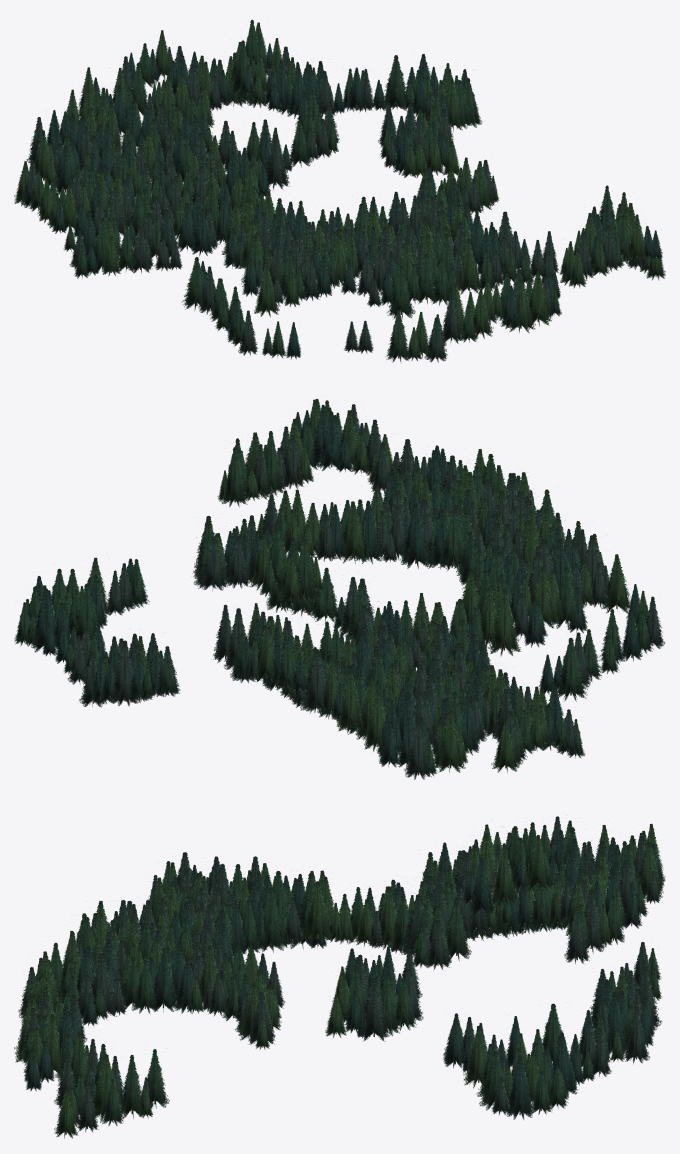
File: pines_0_0.glb
3 views of the same model, one above another, from view 1: azimuth 30°, elevation 25°; view 2: azimuth 150°, elevation 25°; view 3: azimuth 270°, elevation 25° (orthographic). The views are drawn at different scales.
Parts seen in each view (by area): view 1: f; view 2: f; view 3: f.
Part boxes in pixels (left/top/right/bottom): f: left=14, top=20, right=665, bottom=362; f: left=14, top=399, right=665, bottom=779; f: left=14, top=816, right=665, bottom=1138.
Size of the model in its own units: 119 by 46.06 by 129.
1 material, 1 textured.
